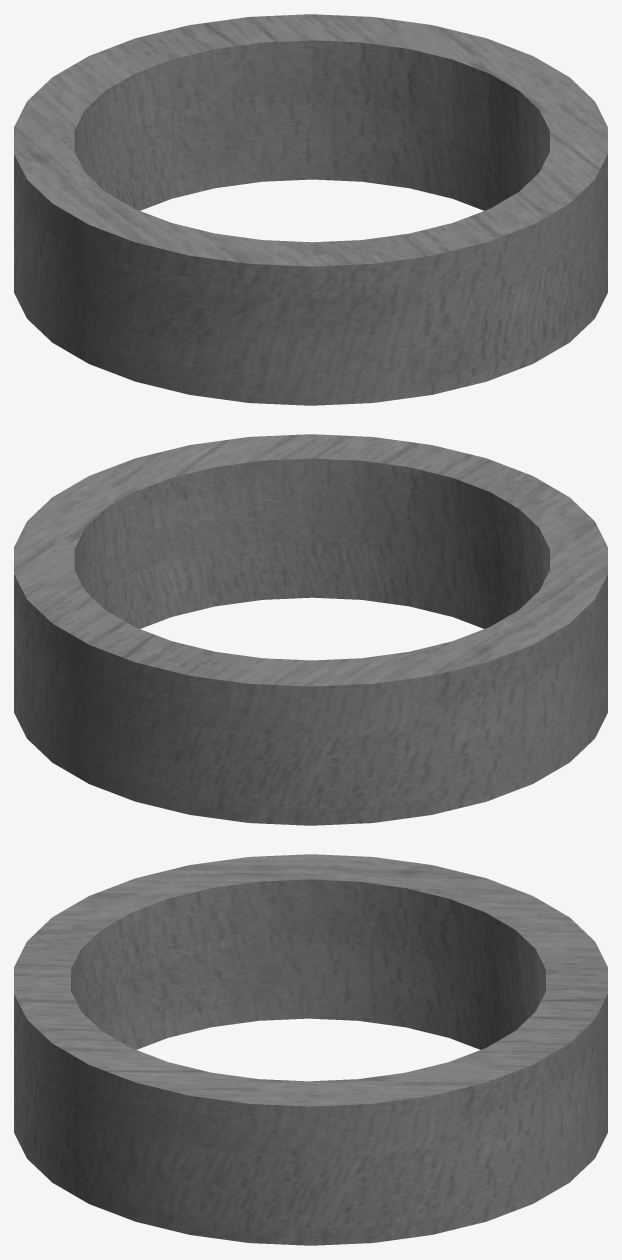
Rendered from elevator_ring_2.fbx.
3 renders of one model, top to bottom at view 1: azimuth 30°, elevation 25°; view 2: azimuth 150°, elevation 25°; view 3: azimuth 270°, elevation 25°, orthographic.
Visible parts, largest first — view 1: pCylinder6; view 2: pCylinder6; view 3: pCylinder6.
Part boxes in pixels (left/top/right/bottom): pCylinder6: left=14, top=14, right=607, bottom=405; pCylinder6: left=14, top=434, right=607, bottom=825; pCylinder6: left=14, top=854, right=607, bottom=1245.
Bounding box in the file's own units: 14 × 3.6 × 13.92.
